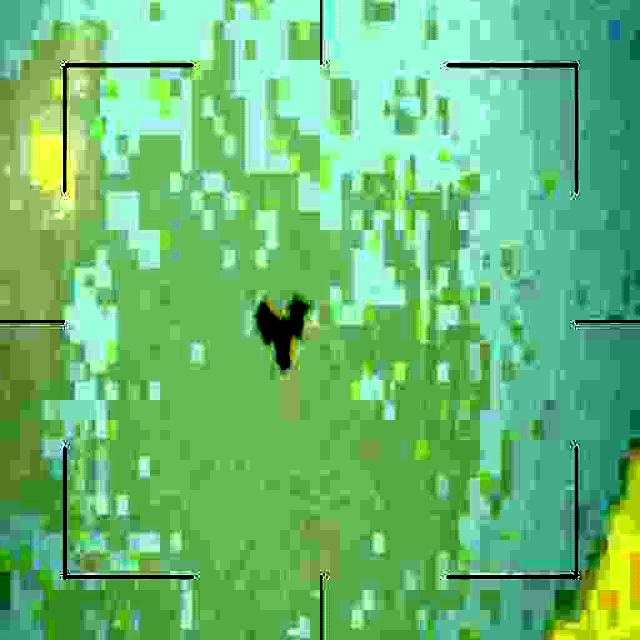bird: (259, 290, 311, 374)
